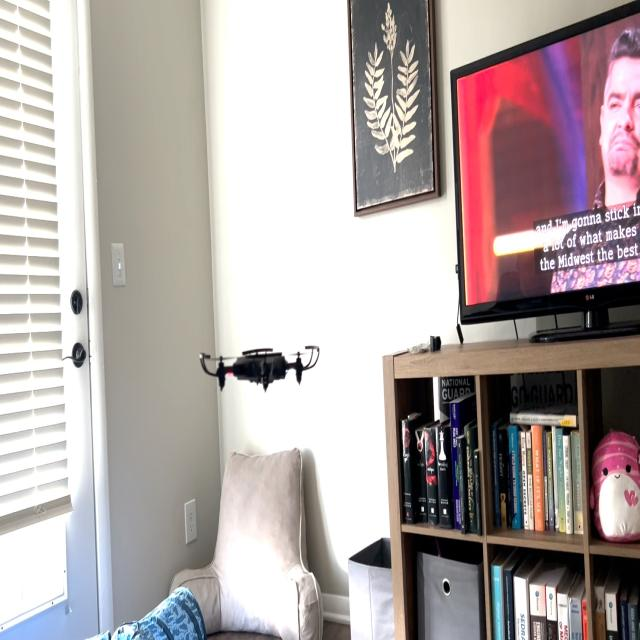drone: (192, 324, 328, 406)
